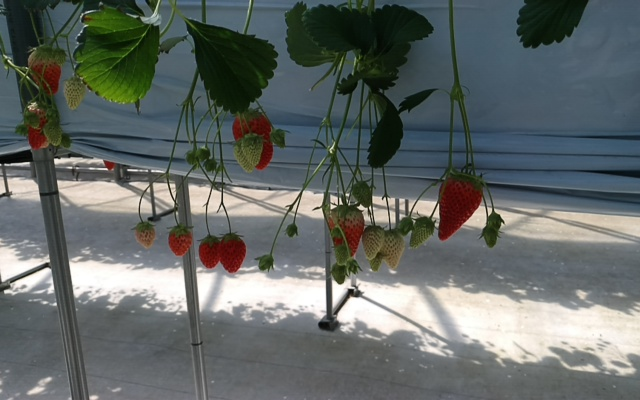GreenStrawberry: (379, 228, 407, 273), (231, 138, 258, 174), (407, 216, 436, 249), (61, 76, 87, 112), (240, 131, 264, 169), (361, 223, 385, 261), (133, 220, 157, 251), (350, 180, 375, 209), (43, 121, 64, 147), (334, 243, 353, 269), (329, 260, 348, 285), (482, 226, 500, 249), (486, 211, 502, 235), (396, 216, 414, 236)
MatureStrawberry: (436, 170, 485, 244), (231, 107, 277, 171), (327, 202, 366, 259), (26, 44, 62, 97), (23, 98, 58, 151), (218, 231, 247, 276), (197, 235, 222, 271), (167, 225, 193, 259)
